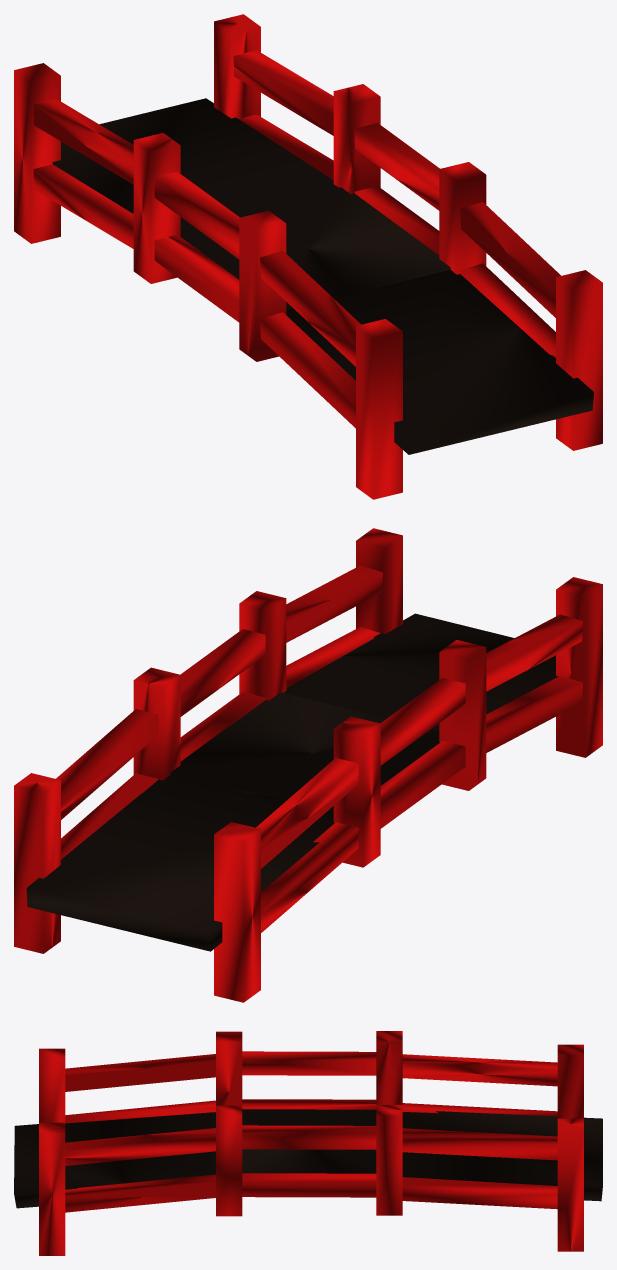
File: bridge.obj
3 renders of one model, top to bottom at view 1: azimuth 30°, elevation 25°; view 2: azimuth 150°, elevation 25°; view 3: azimuth 270°, elevation 25°, orthographic. The views are drawn at different scales.
Visible parts, largest first — view 1: pCube24; view 2: pCube24; view 3: pCube24.
Boxes of the visible parts, x1=… form: pCube24: x1=14, y1=14, x2=602, y2=499; pCube24: x1=14, y1=528, x2=602, y2=1002; pCube24: x1=14, y1=1031, x2=602, y2=1255.
Bounding box in the file's own units: 4.16 × 3.19 × 12.17.
